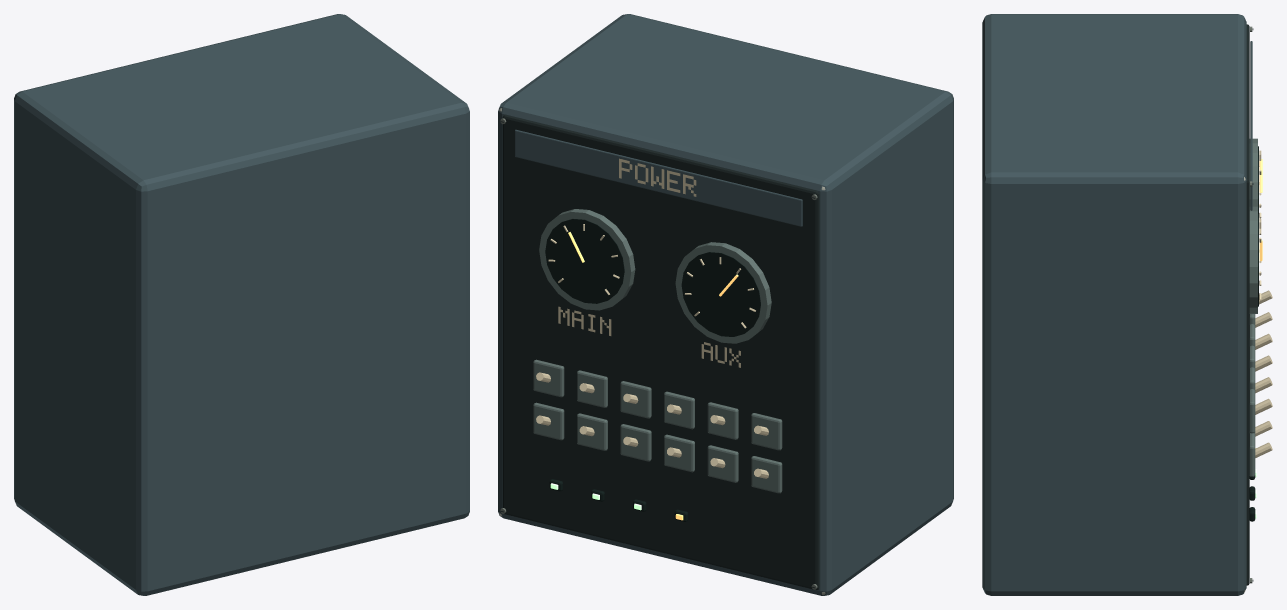
The model's file is power_panel.glb.
The picture shows the model from 3 angles, left to right: view 1: azimuth 30°, elevation 25°; view 2: azimuth 150°, elevation 25°; view 3: azimuth 270°, elevation 25°; orthographic projection.
Visible parts, largest first — view 1: power_panel; view 2: power_panel; view 3: power_panel.
Part boxes in pixels (x1,y1,x2,y2): power_panel: [14, 14, 469, 595]; power_panel: [498, 14, 953, 595]; power_panel: [982, 14, 1272, 595].
Bounding box in the file's own units: 0.535 × 0.638 × 0.3961.
